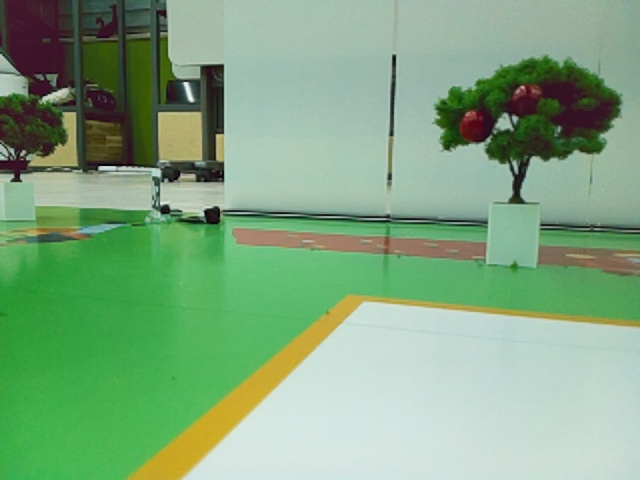apple: (460, 110, 483, 141)
